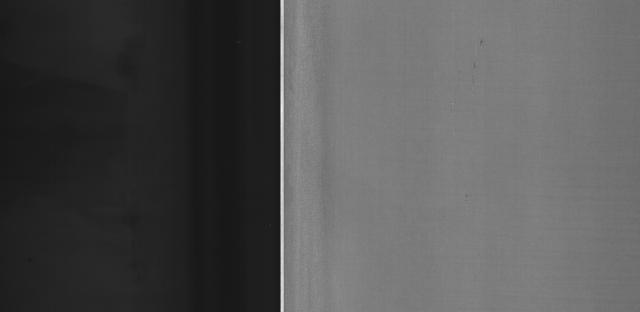inclusion: (477, 37, 488, 50)
